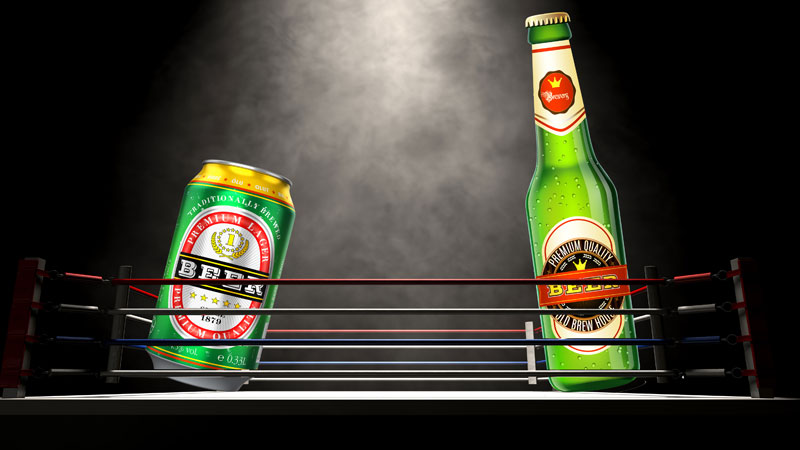beer can: (144, 158, 295, 395)
